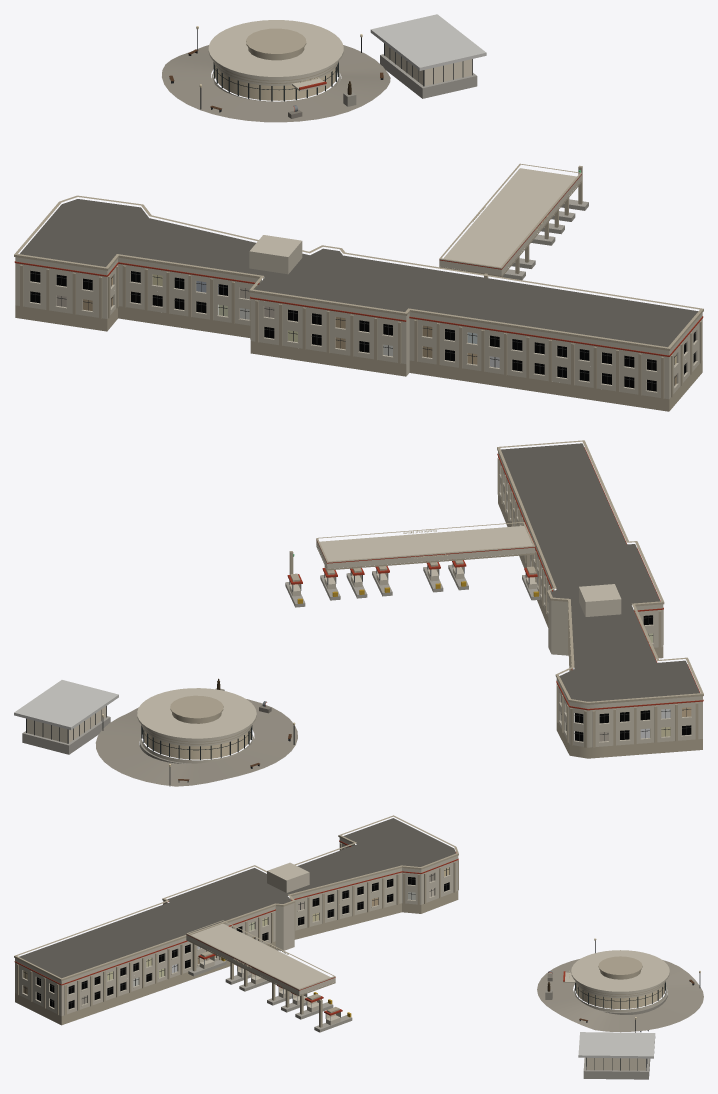
The model's file is ggPlaza_lod0.glb.
The picture shows the model from 3 angles, top to bottom: view 1: azimuth 30°, elevation 25°; view 2: azimuth 150°, elevation 25°; view 3: azimuth 270°, elevation 25°; orthographic projection. The views are drawn at different scales.
Parts seen in each view (by area): view 1: L0_stucco, L0_roof, L0_paving, L0_win, L0_paint, L0_shop, L0_concrete, L0_metal; view 2: L0_stucco, L0_roof, L0_paving, L0_paint, L0_shop, L0_concrete, L0_metal, L0_win; view 3: L0_stucco, L0_roof, L0_paving, L0_paint, L0_win, L0_shop, L0_concrete, L0_metal.
Boxes of the visible parts, x1=… form: L0_stucco: x1=14, y1=14, x2=703, y2=411; L0_roof: x1=20, y1=199, x2=698, y2=347; L0_paving: x1=162, y1=45, x2=390, y2=122; L0_win: x1=30, y1=270, x2=695, y2=391; L0_paint: x1=14, y1=81, x2=703, y2=356; L0_shop: x1=215, y1=44, x2=472, y2=100; L0_concrete: x1=380, y1=54, x2=588, y2=280; L0_metal: x1=30, y1=29, x2=695, y2=390; L0_stucco: x1=14, y1=440, x2=703, y2=763; L0_roof: x1=501, y1=443, x2=699, y2=701; L0_paving: x1=95, y1=699, x2=297, y2=786; L0_paint: x1=265, y1=447, x2=703, y2=710; L0_shop: x1=27, y1=565, x2=535, y2=759; L0_concrete: x1=22, y1=564, x2=540, y2=754; L0_metal: x1=26, y1=563, x2=691, y2=786; L0_win: x1=561, y1=615, x2=691, y2=741; L0_stucco: x1=14, y1=815, x2=669, y2=1058; L0_roof: x1=19, y1=818, x2=455, y2=978; L0_paving: x1=537, y1=958, x2=703, y2=1032; L0_paint: x1=14, y1=840, x2=565, y2=1027; L0_win: x1=23, y1=867, x2=449, y2=1009; L0_shop: x1=200, y1=956, x2=664, y2=1070; L0_concrete: x1=188, y1=960, x2=650, y2=1079; L0_metal: x1=23, y1=868, x2=700, y2=1070.
Size of the model in its own units: 101 by 13.98 by 137.
